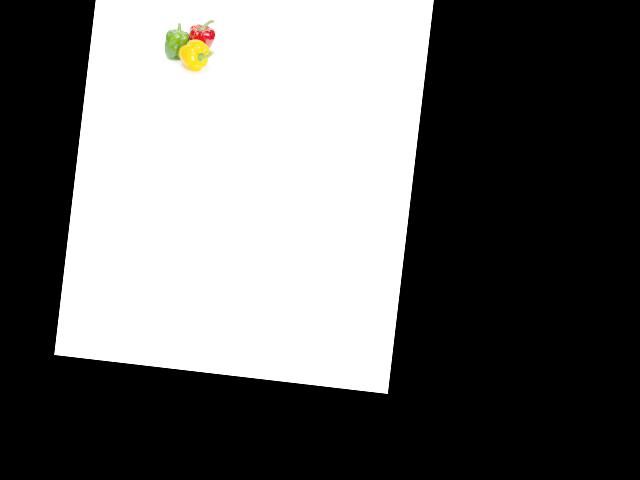bell_pepper: (183, 14, 221, 53)
